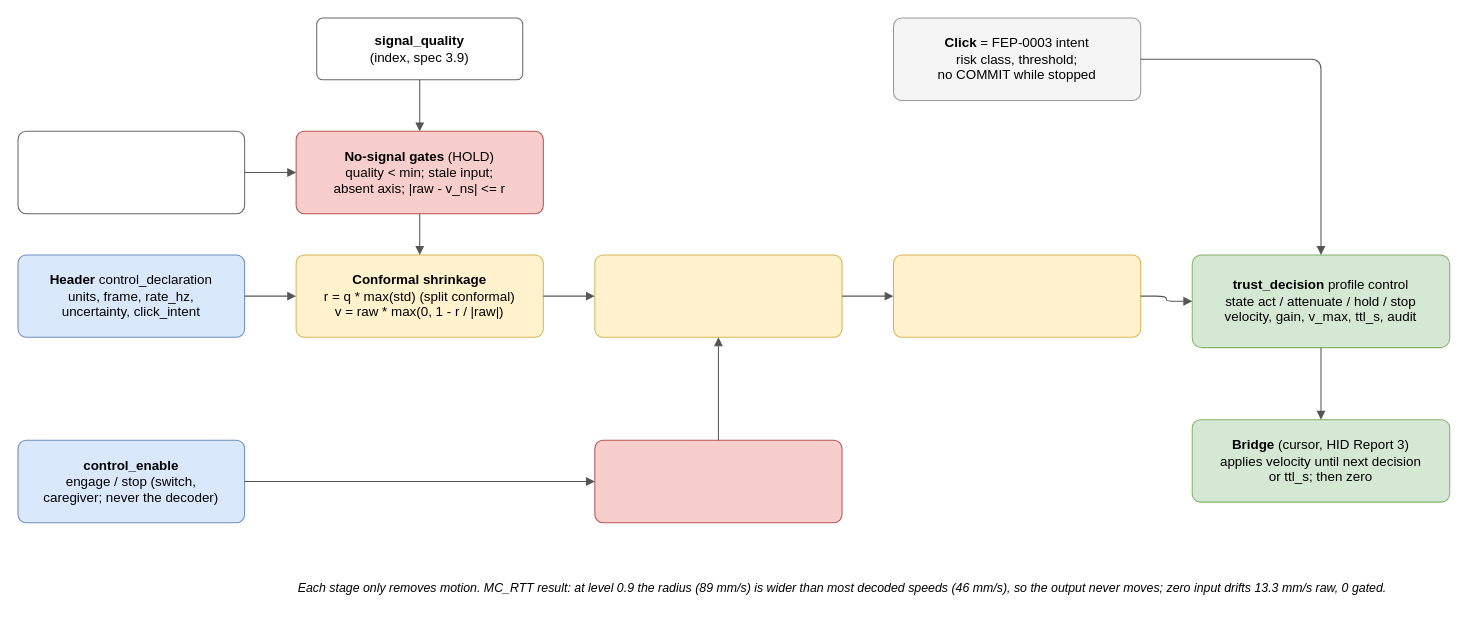
This 1468x633 diagram has some shape labels left out. Here are the shapes that lost their labels. From the top down, the box of each, then its label:
(17, 130, 245, 214): Decoder (causal, 50 Hz) control event: tick, values, std per axis
(594, 254, 842, 337): Hand-off authority 0 -> 1 over 1 s after engage; rest from a human channel
(892, 254, 1141, 337): Clamps |v| <= v_max; |dv| <= a_max dt; never faster than the gated target
(594, 439, 842, 523): Dead-man no motion before engage; stop is latched; poll -> HOLD
